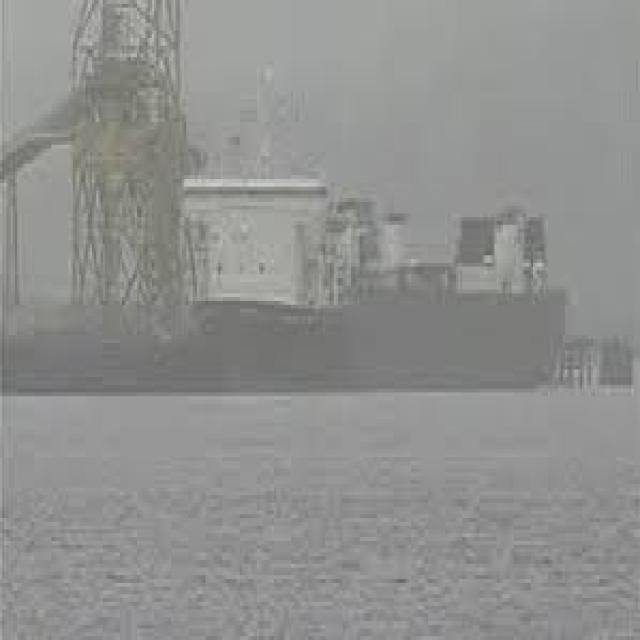cargoship: (0, 144, 567, 391)
